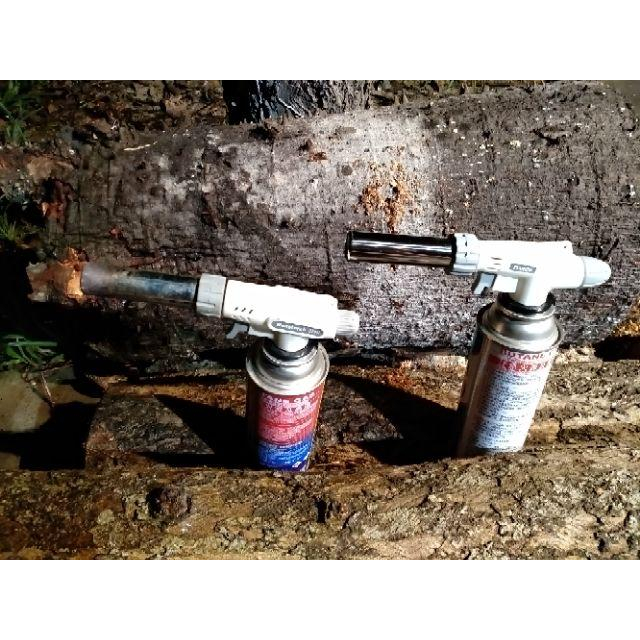gastorch: (82, 259, 367, 498), (347, 229, 615, 458)
